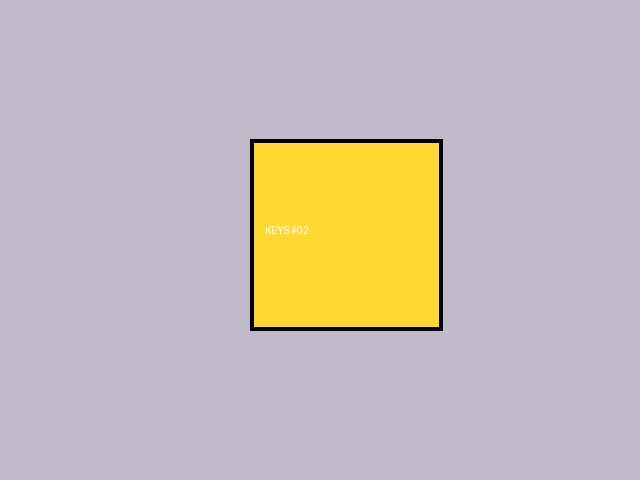keys: (250, 139, 442, 330)
